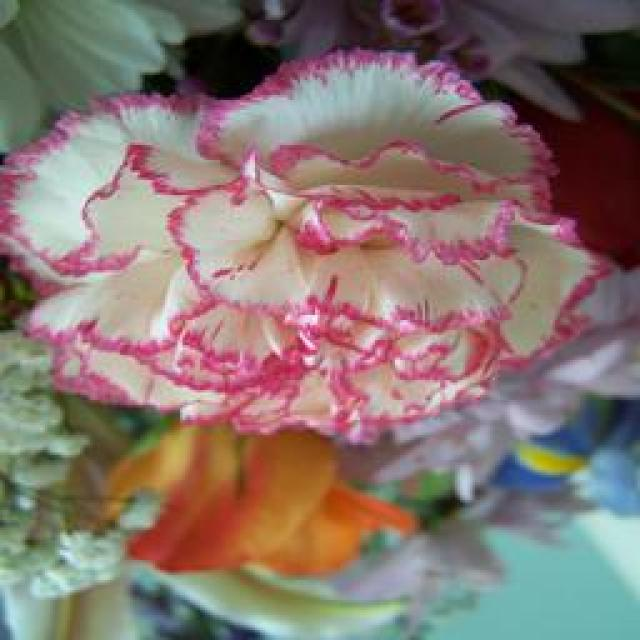carnation: (6, 38, 598, 432)
